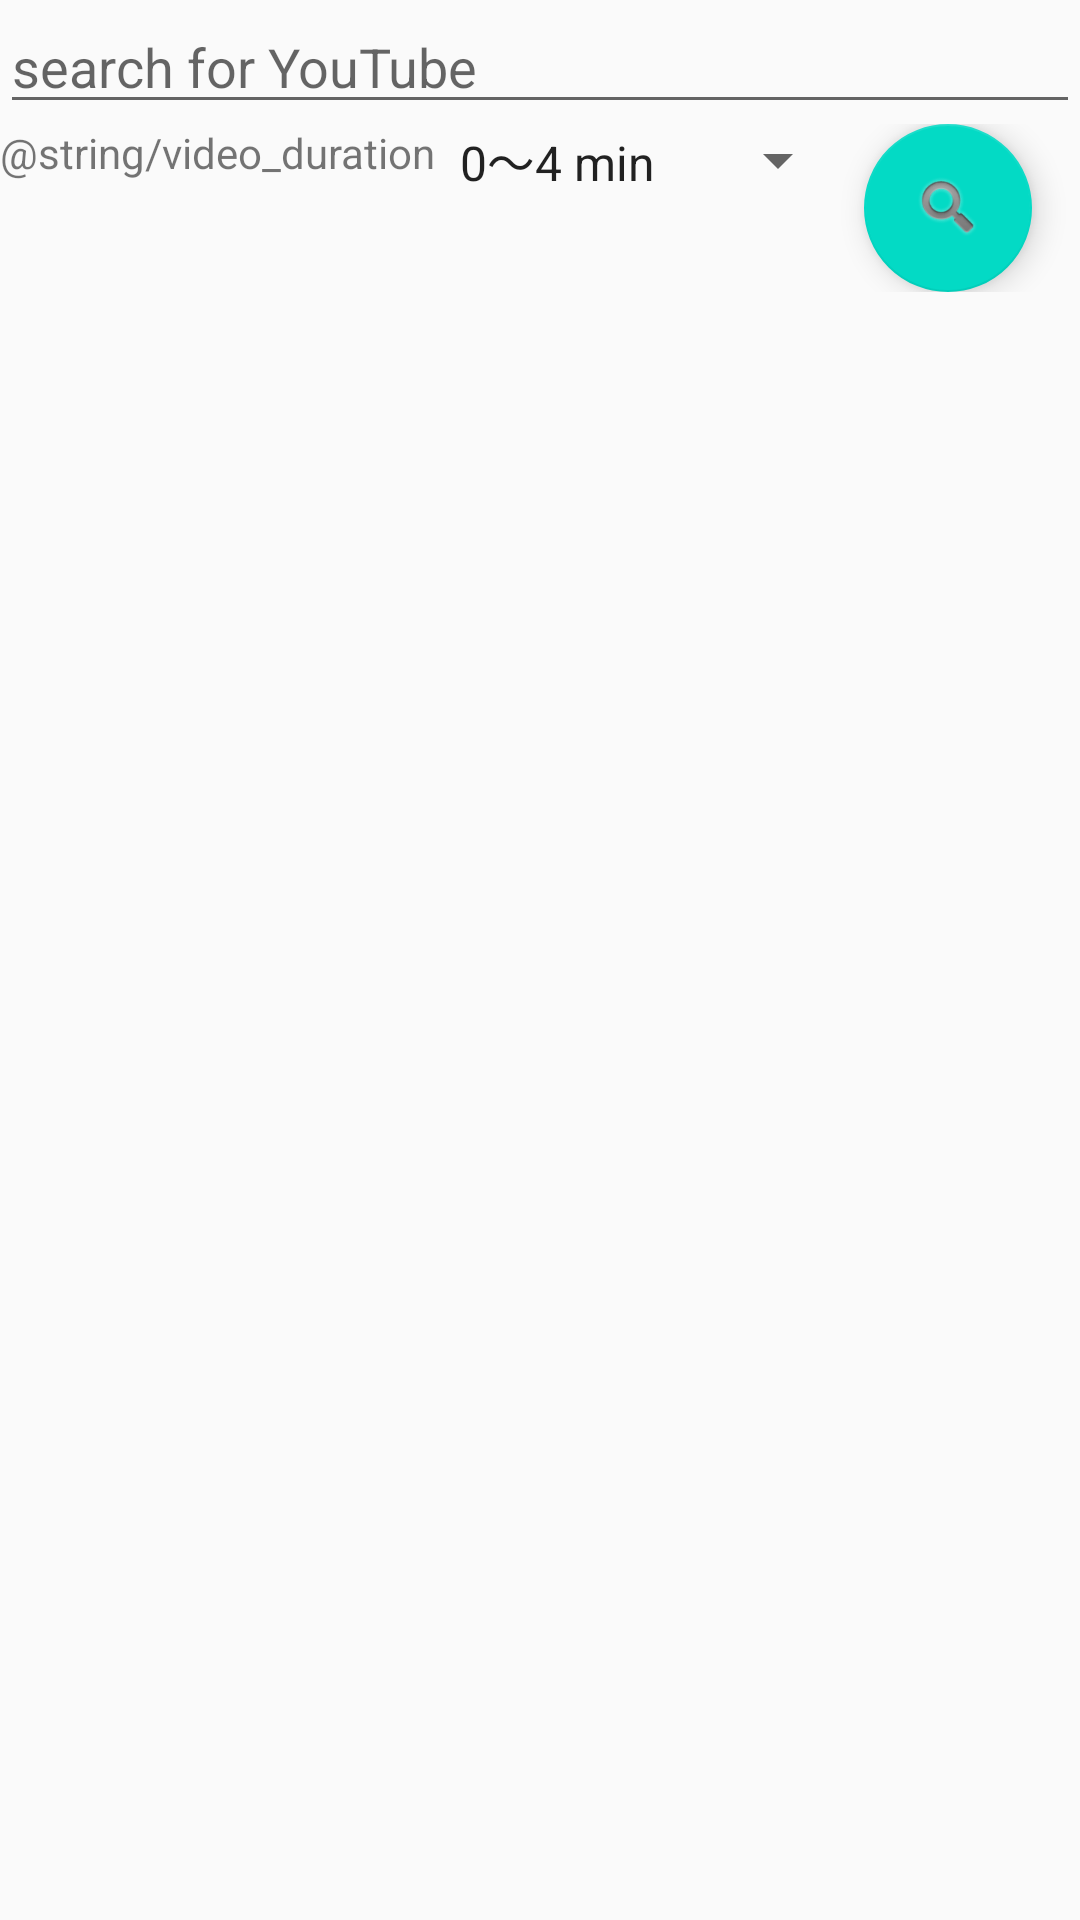

Where icons sit on this 1080*1920 app screen, as (x1, y1, x2, y2):
search category: (864, 124, 1032, 292)
